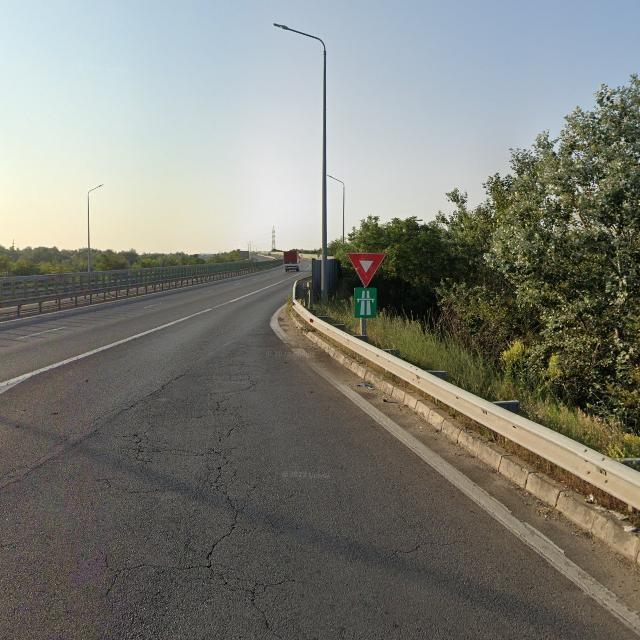prio_give_way: (347, 253, 387, 288)
